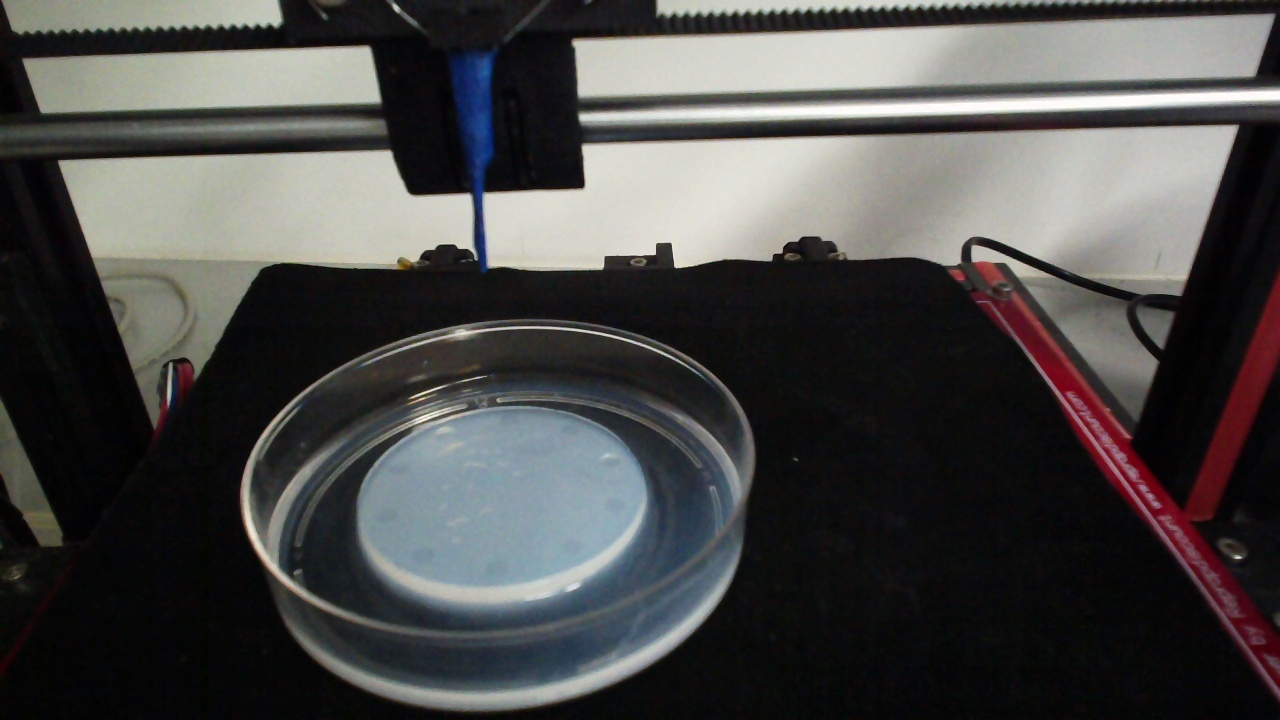groove: (408, 543, 434, 566), (432, 422, 457, 445), (482, 556, 508, 578), (371, 504, 398, 525), (596, 450, 623, 469), (562, 534, 586, 555), (496, 409, 519, 429), (388, 459, 411, 479), (559, 420, 581, 439), (601, 496, 624, 514)
needle: (454, 56, 492, 275)
